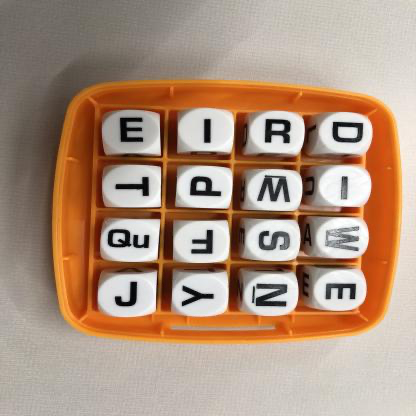d: (317, 114, 373, 155)
e: (105, 113, 163, 154), (315, 270, 367, 311)
f: (174, 222, 231, 263)
i: (176, 111, 235, 156), (318, 167, 375, 206)
j: (98, 276, 159, 317)
n: (244, 273, 299, 314)
p: (179, 167, 233, 210)
qu: (105, 219, 160, 262)
r: (252, 112, 305, 153)
s: (247, 219, 301, 260)
t: (104, 168, 162, 207)
w: (246, 171, 303, 212), (316, 218, 369, 256)
y: (174, 274, 231, 317)
